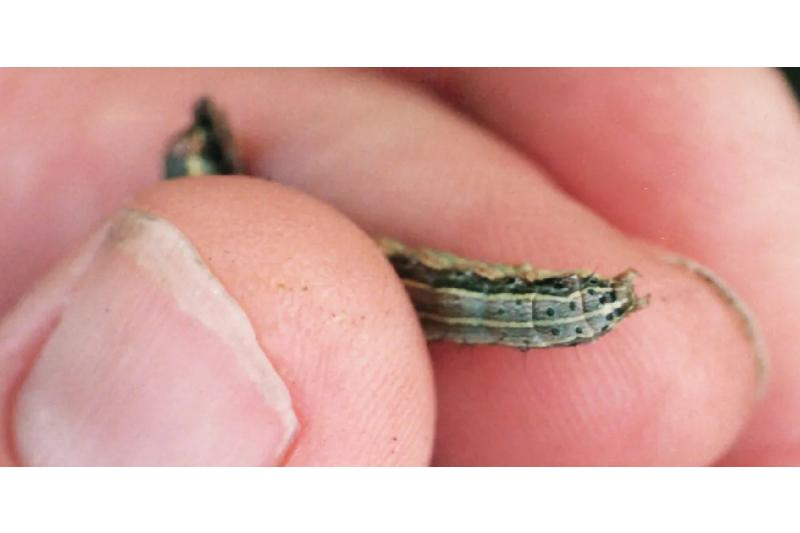fall-armyworm: (162, 97, 652, 349)
